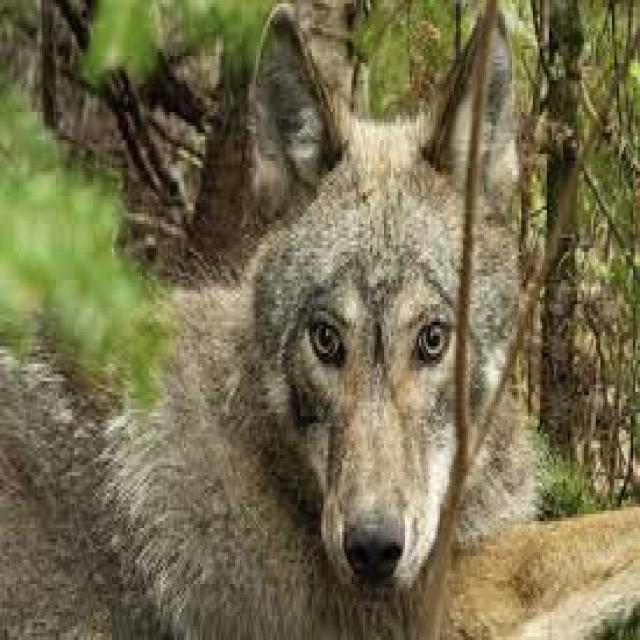Wolf: (0, 0, 545, 637)
